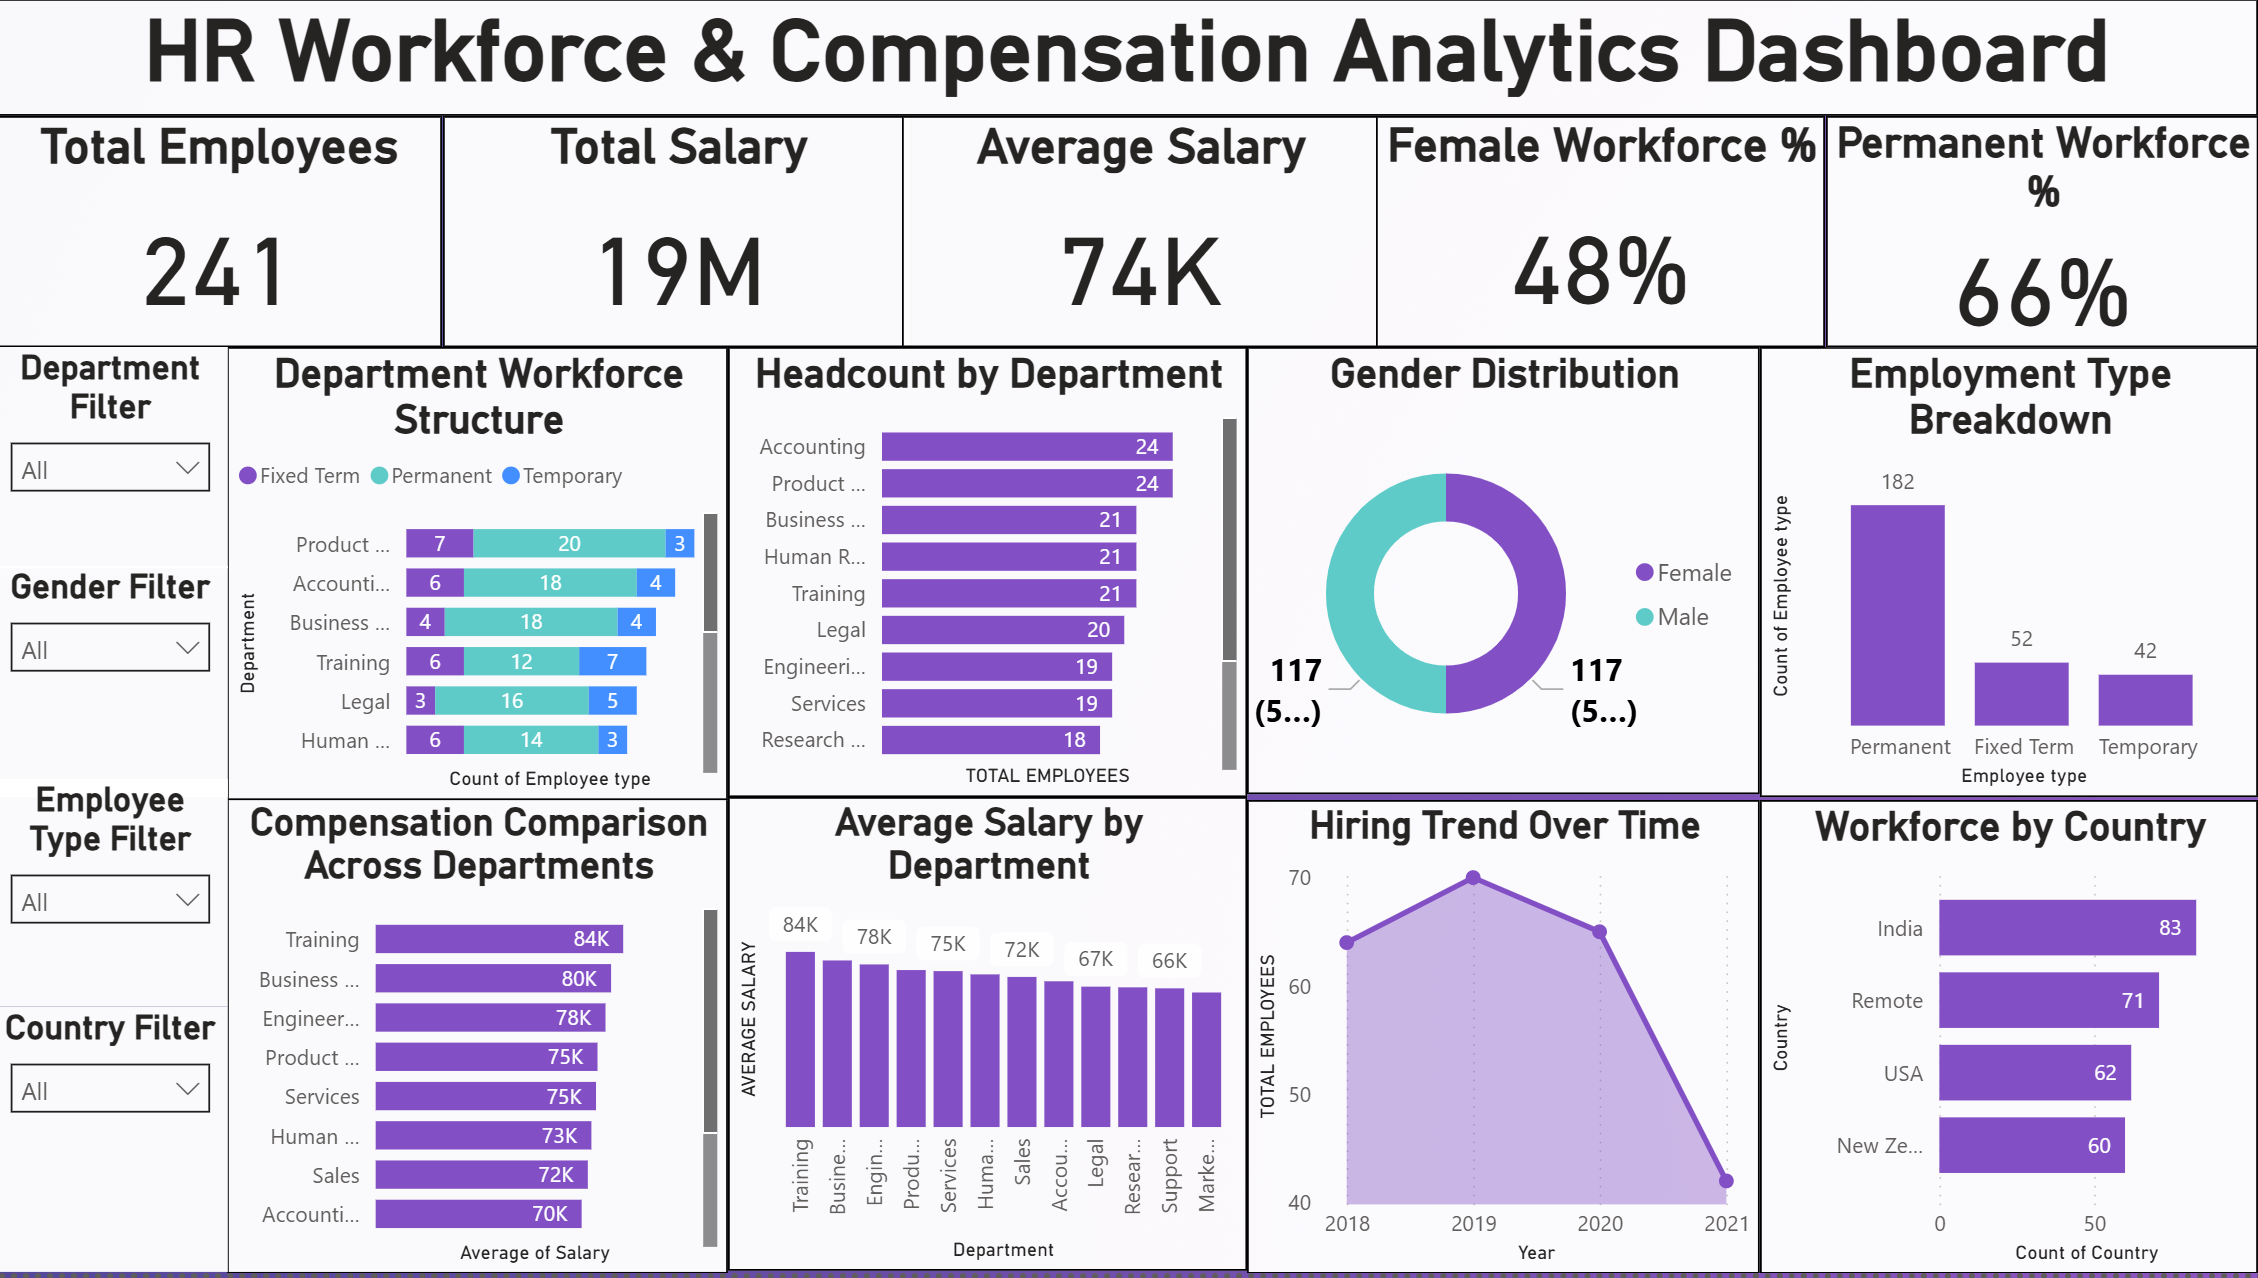

What the dashboard file says about the page in this screenshot:
{"tool":"powerbi","page":{"name":"Page 1","canvas":[1280,720],"ordinal":0},"visuals":[{"type":"card","title":"Total Employees","fields":{"Values":["HR.TOTAL EMPLOYEES"]},"box":[0,66.3,253.7,130.7],"z":0},{"type":"card","title":"Total Salary","fields":{"Values":["HR.TOTAL SALARY COST"]},"box":[253.7,66.3,265.1,130.7],"z":1},{"type":"card","title":"Average Salary","fields":{"Values":["HR.AVERAGE SALARY"]},"box":[513.1,66.3,268.9,130.7],"z":2},{"type":"card","title":"Female Workforce %","fields":{"Values":["HR.FEMALE WORKFORCE %"]},"box":[782,66.3,253.7,130.7],"z":3},{"type":"barChart","title":"Headcount by Department","fields":{"Category":["HR.Department"],"Y":["HR.TOTAL EMPLOYEES"]},"box":[415.3,196.6,293.2,254.2],"z":5},{"type":"donutChart","title":"Gender Distribution","fields":{"Category":["HR.Gender"],"Y":["HR.TOTAL EMPLOYEES"]},"box":[708.5,196.6,289.8,252.5],"z":6},{"type":"lineStackedColumnComboChart","title":"Average Salary by Department","fields":{"Category":["HR.Department"],"Y":["HR.AVERAGE SALARY"]},"box":[415.3,450.8,293.2,267.8],"z":7},{"type":"clusteredColumnChart","title":"Employment Type Breakdown","fields":{"Category":["HR.Employee type"],"Y":["CountNonNull(HR.Employee type)"]},"box":[998.3,196.6,281.4,254.2],"z":8},{"type":"barChart","title":"Workforce by Country","fields":{"Category":["HR.Country"],"Y":["CountNonNull(HR.Country)"]},"box":[998.3,452.5,281.4,267.8],"z":9},{"type":"lineChart","title":"Hiring Trend Over Time","fields":{"Category":["HR.Start Date.Variation.Date Hierarchy.Year"],"Y":["HR.TOTAL EMPLOYEES"]},"box":[708.5,452.5,289.8,267.8],"z":10},{"type":"card","title":"Permanent Workforce %","fields":{"Values":["HR.PERMANENT WORKFORCE %"]},"box":[1035.7,66.3,244.3,130.7],"z":11},{"type":"barChart","title":"Compensation Comparison Across Departments","fields":{"Category":["HR.Department"],"Y":["Avg(HR.Salary)"]},"box":[132.2,450.8,283.1,269.5],"z":12},{"type":"barChart","title":"Department Workforce Structure","fields":{"Category":["HR.Department"],"Y":["CountNonNull(HR.Employee type)"],"Series":["HR.Employee type"]},"box":[132.2,196.6,283.1,255.9],"z":13},{"type":"slicer","title":"Department Filter","fields":{"Values":["HR.Department"]},"box":[0,196.9,132.5,125],"z":14},{"type":"slicer","title":"Gender Filter","fields":{"Values":["HR.Gender"]},"box":[0,320,132.5,130.7],"z":15},{"type":"slicer","title":"Employee Type Filter","fields":{"Values":["HR.Employee type"]},"box":[0,441.2,132.5,128.8],"z":16},{"type":"slicer","title":"Country Filter","fields":{"Values":["HR.Country"]},"box":[0,569.9,132.5,149.6],"z":17},{"type":"shape","title":"HR Workforce & Compensation Analytics Dashboard","box":[0,0,1279.7,66.1],"z":18}]}

Visuals, with their boxes in screenshot pixels (x1, y1, x2, y2), scaled from the page's 1280x720 canvas onto the 2258x1278 screenshot:
"Total Employees" card: 0, 118, 448, 350
"Total Salary" card: 448, 118, 915, 350
"Average Salary" card: 905, 118, 1379, 350
"Female Workforce %" card: 1379, 118, 1827, 350
"Headcount by Department" barChart: 733, 349, 1250, 800
"Gender Distribution" donutChart: 1250, 349, 1761, 797
"Average Salary by Department" lineStackedColumnComboChart: 733, 800, 1250, 1276
"Employment Type Breakdown" clusteredColumnChart: 1761, 349, 2257, 800
"Workforce by Country" barChart: 1761, 803, 2257, 1277
"Hiring Trend Over Time" lineChart: 1250, 803, 1761, 1277
"Permanent Workforce %" card: 1827, 118, 2257, 350
"Compensation Comparison Across Departments" barChart: 233, 800, 733, 1277
"Department Workforce Structure" barChart: 233, 349, 733, 803
"Department Filter" slicer: 0, 349, 234, 571
"Gender Filter" slicer: 0, 568, 234, 800
"Employee Type Filter" slicer: 0, 783, 234, 1012
"Country Filter" slicer: 0, 1012, 234, 1277
"HR Workforce & Compensation Analytics Dashboard" shape: 0, 0, 2257, 117
